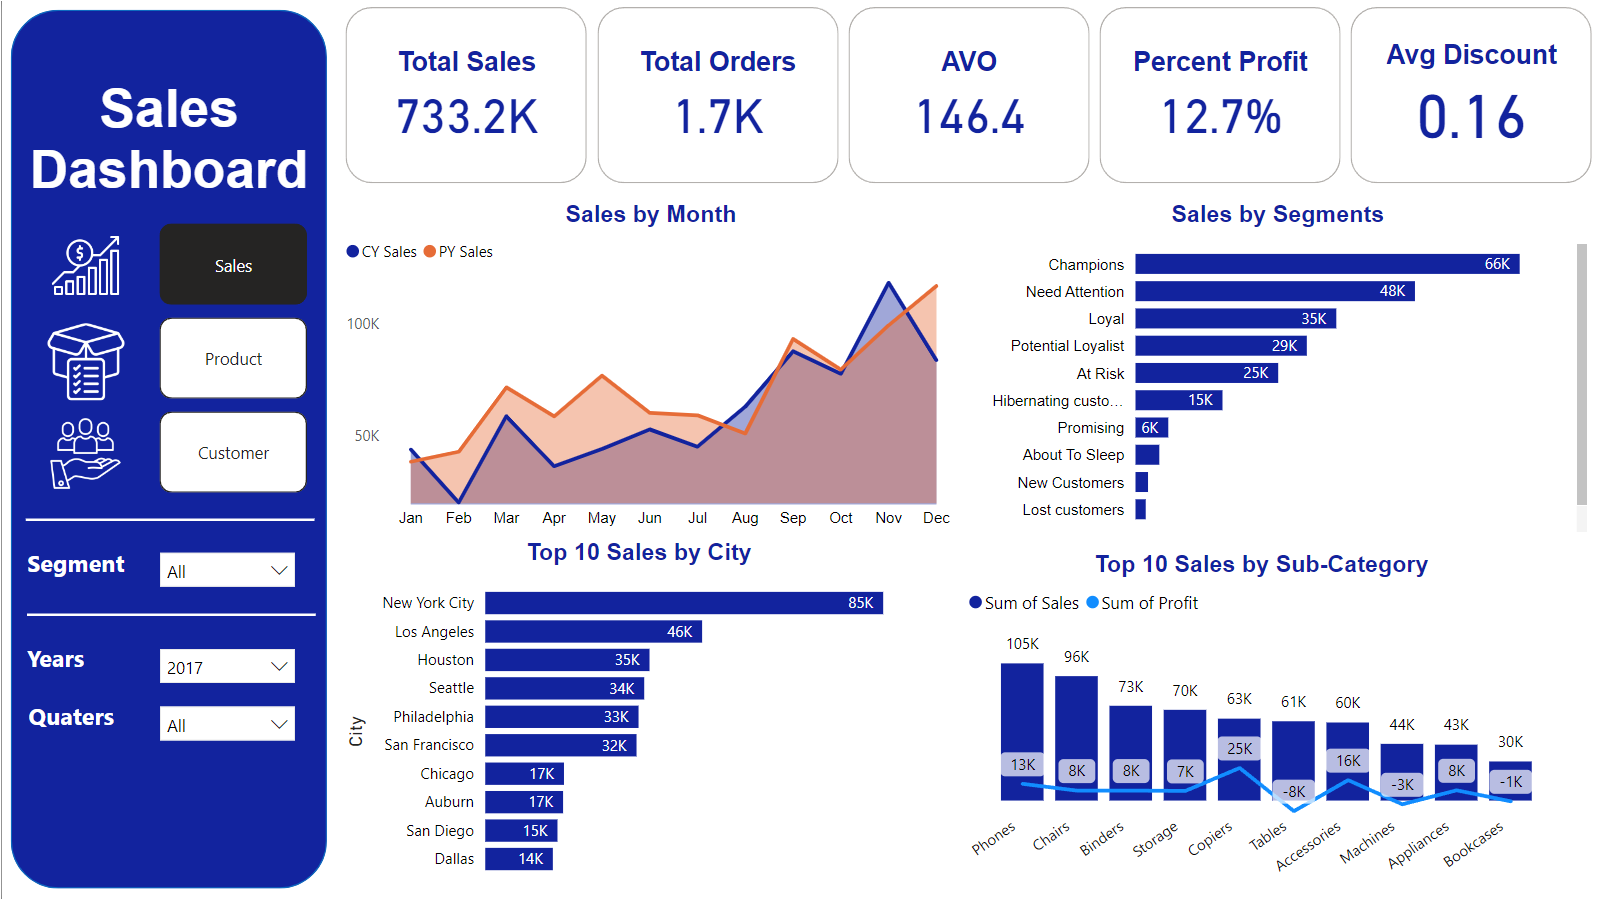

The page's visual inventory and layout, read from the dashboard file:
{"tool":"powerbi","page":{"name":"Sales","canvas":[1280,720],"ordinal":0},"visuals":[{"type":"shape","box":[7.2,7.2,252.4,702.5],"z":0},{"type":"textbox","box":[7.2,57.5,252.4,157.2],"z":1000},{"type":"cardVisual","fields":{"Data":["Sum(Fact_Sales.Sales)","AVO.Total Order","AVO.AVO","AVO.Percent Profit","Avg(Fact_Sales.Discount)"]},"box":[270,0,1010,151.1],"z":2000},{"type":"clusteredBarChart","title":"Top 10 Sales by City","fields":{"Category":["DIm_Geography.City"],"Y":["Sum(Fact_Sales.Sales)"]},"box":[270,430,478.9,280],"z":3000},{"type":"clusteredBarChart","title":"Sales by Segments","fields":{"Y":["Sum(Fact_Sales.Sales)"],"Category":["segment scores.Segment"]},"box":[767.8,160,505.6,270],"z":4000},{"type":"areaChart","title":"Sales by Month","fields":{"Y":["Main Measure.CY Sales"],"Y2":["Main Measure.PY Sales"],"Category":["Calendar.Month"]},"box":[270,160,497.8,270],"z":5000},{"type":"lineClusteredColumnComboChart","title":"Top 10 Sales by Sub-Category","fields":{"Category":["Dim_Product.Sub-Category"],"Y":["Sum(Fact_Sales.Sales)"],"Y2":["Sum(Fact_Sales.Profit)"]},"box":[767.8,440,478.9,280],"z":6000},{"type":"slicer","fields":{"Values":["Calendar.Year"]},"box":[116,508,128,44],"z":7000},{"type":"textbox","box":[15.3,432.1,100.6,42.2],"z":8000},{"type":"shape","box":[18.9,398,230.9,34.1],"z":9000},{"type":"textbox","box":[115.9,325.1,110.5,42.2],"z":10000},{"type":"pageNavigator","box":[125.8,177.9,118.6,216.5],"z":11000},{"type":"image","box":[29.6,178,74.6,67.4],"z":12000},{"type":"image","box":[29.6,253.4,74.6,70.1],"z":13000},{"type":"image","box":[29.6,326.2,74.6,71.9],"z":14000},{"type":"slicer","fields":{"Values":["segment scores.Segment"]},"box":[116,431,128,45],"z":15000},{"type":"shape","box":[19.8,474.3,230.9,34.1],"z":16000},{"type":"textbox","box":[15,508,90,43],"z":17000},{"type":"textbox","box":[16,554,89,43],"z":18000},{"type":"slicer","fields":{"Values":["Calendar.Quater"]},"box":[116,554,128,45],"z":19000}]}

Visuals, with their boxes in screenshot pixels (x1, y1, x2, y2), scaled from the page's 1280x720 canvas onto the 1602x900 screenshot:
shape: (x1=9, y1=9, x2=325, y2=887)
textbox: (x1=9, y1=72, x2=325, y2=268)
cardVisual - Sum(Fact_Sales.Sales) x AVO.Total Order: (x1=338, y1=0, x2=1601, y2=189)
"Top 10 Sales by City" clusteredBarChart: (x1=338, y1=538, x2=937, y2=888)
"Sales by Segments" clusteredBarChart: (x1=961, y1=200, x2=1594, y2=538)
"Sales by Month" areaChart: (x1=338, y1=200, x2=961, y2=538)
"Top 10 Sales by Sub-Category" lineClusteredColumnComboChart: (x1=961, y1=550, x2=1560, y2=899)
slicer - Calendar.Year: (x1=145, y1=635, x2=305, y2=690)
textbox: (x1=19, y1=540, x2=145, y2=593)
shape: (x1=24, y1=498, x2=313, y2=540)
textbox: (x1=145, y1=406, x2=283, y2=459)
pageNavigator: (x1=157, y1=222, x2=306, y2=493)
image: (x1=37, y1=222, x2=130, y2=307)
image: (x1=37, y1=317, x2=130, y2=404)
image: (x1=37, y1=408, x2=130, y2=498)
slicer - segment scores.Segment: (x1=145, y1=539, x2=305, y2=595)
shape: (x1=25, y1=593, x2=314, y2=636)
textbox: (x1=19, y1=635, x2=131, y2=689)
textbox: (x1=20, y1=692, x2=131, y2=746)
slicer - Calendar.Quater: (x1=145, y1=692, x2=305, y2=749)
